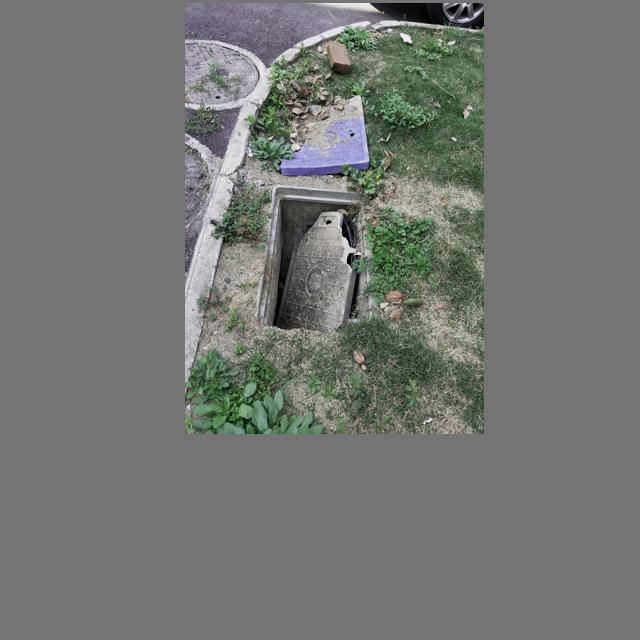broke: (250, 183, 383, 330)
